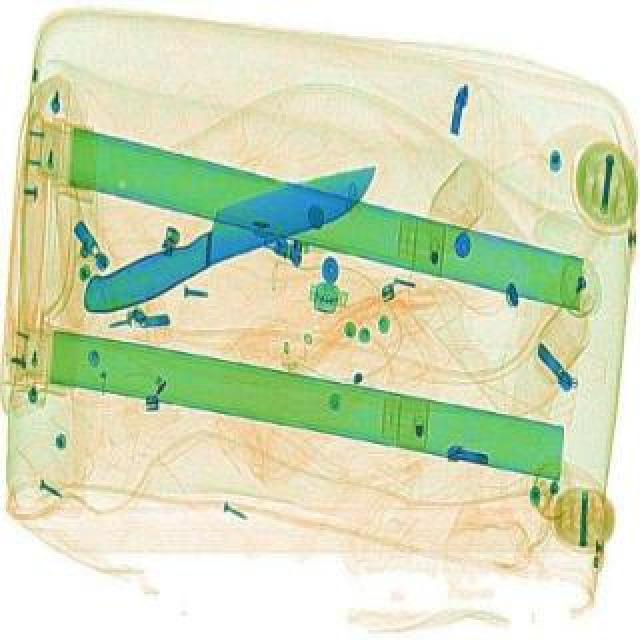knife: (64, 146, 394, 322)
